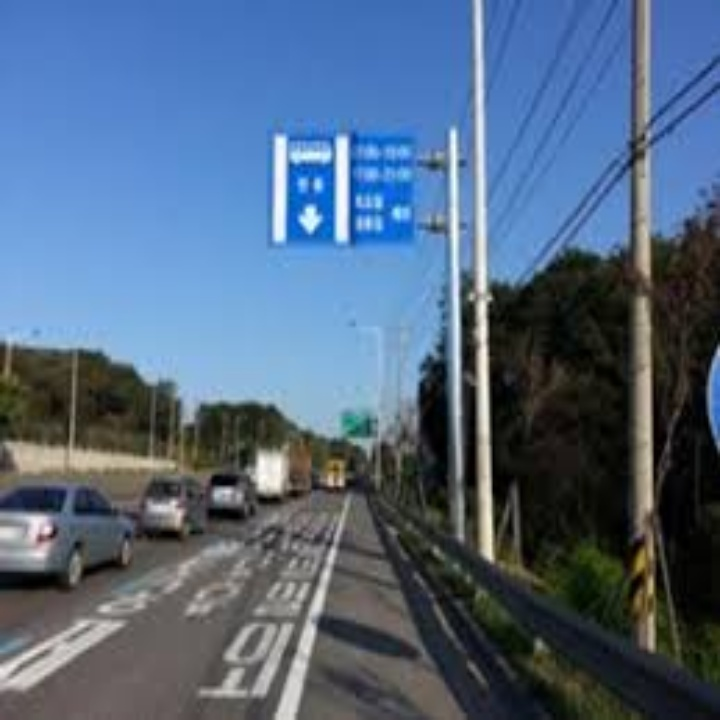bus: (287, 135, 332, 168)
